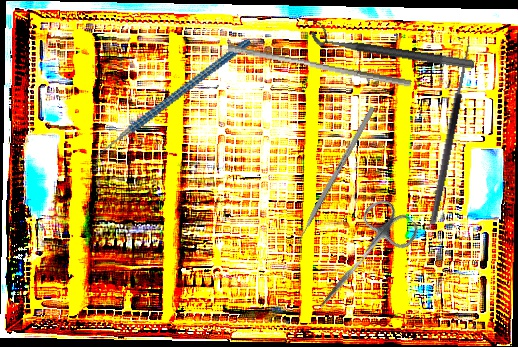Chopper: (69, 38, 274, 172)
Fixation Ring: (309, 21, 477, 70)
Hook Surgical: (420, 37, 474, 225)
Iris Scissors: (300, 193, 423, 327)
Pusher: (288, 106, 376, 256), (225, 43, 414, 88)
